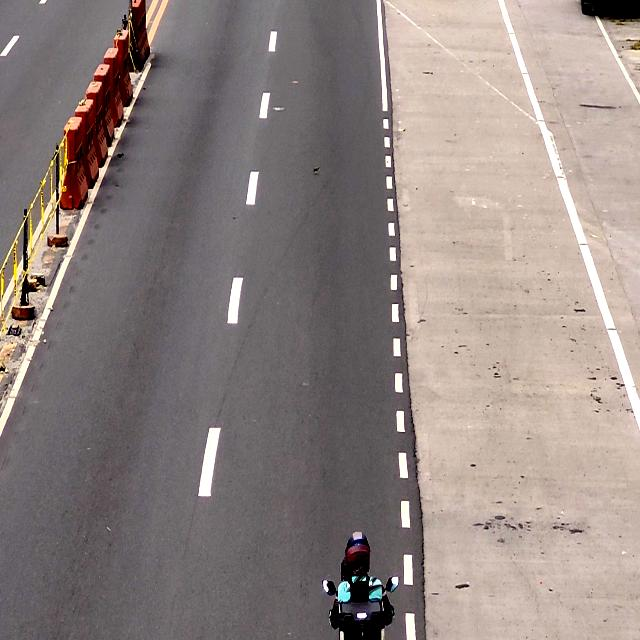Motorcycle: (332, 532, 394, 640)
